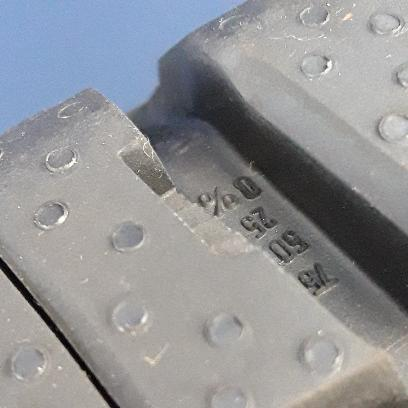temoin:100: (118, 130, 283, 275)
